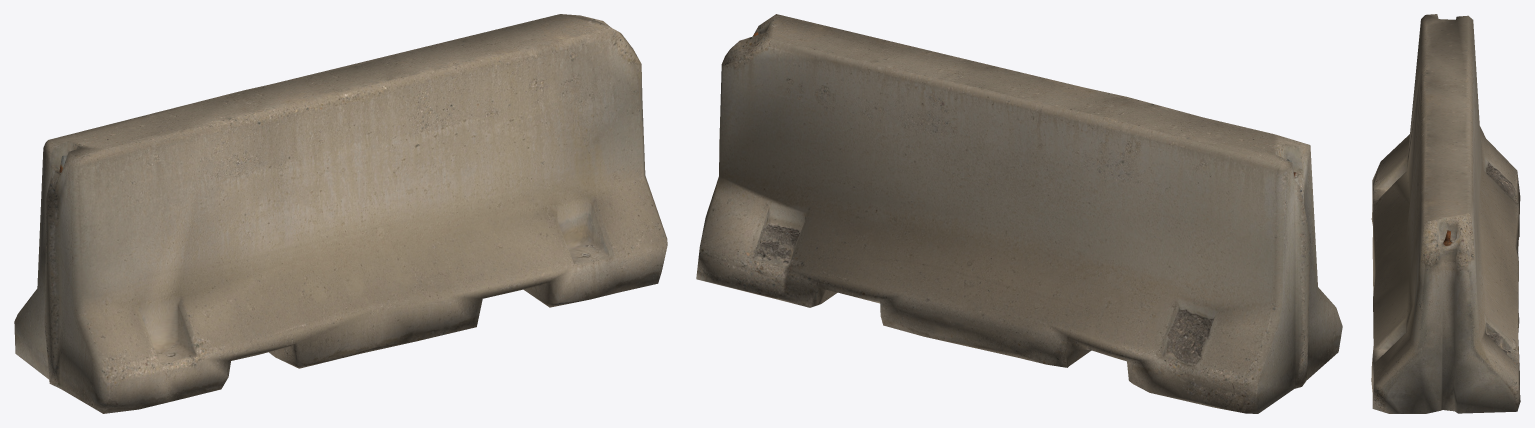
The model's file is highway-barrier.glb.
The picture shows the model from 3 angles, left to right: view 1: azimuth 30°, elevation 25°; view 2: azimuth 150°, elevation 25°; view 3: azimuth 270°, elevation 25°; orthographic projection. The views are drawn at different scales.
Bounding box in the file's own units: 1.81 × 0.7029 × 0.5126.
1 material, 1 textured.
